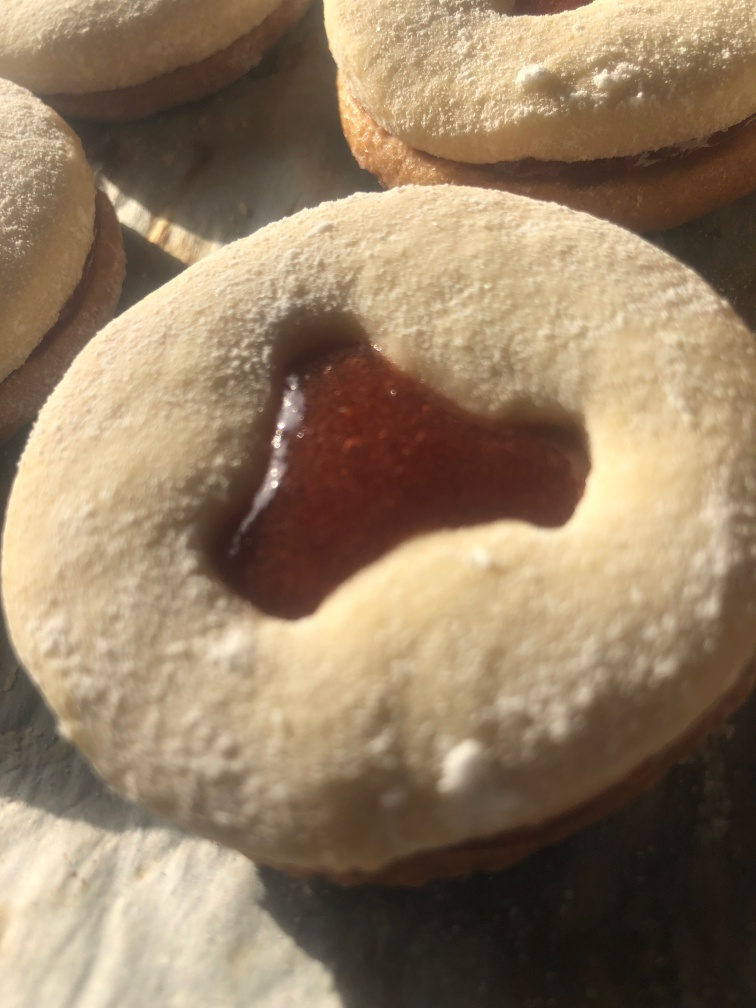christmas shortbread with jam: (8, 182, 755, 864), (314, 4, 756, 219)
